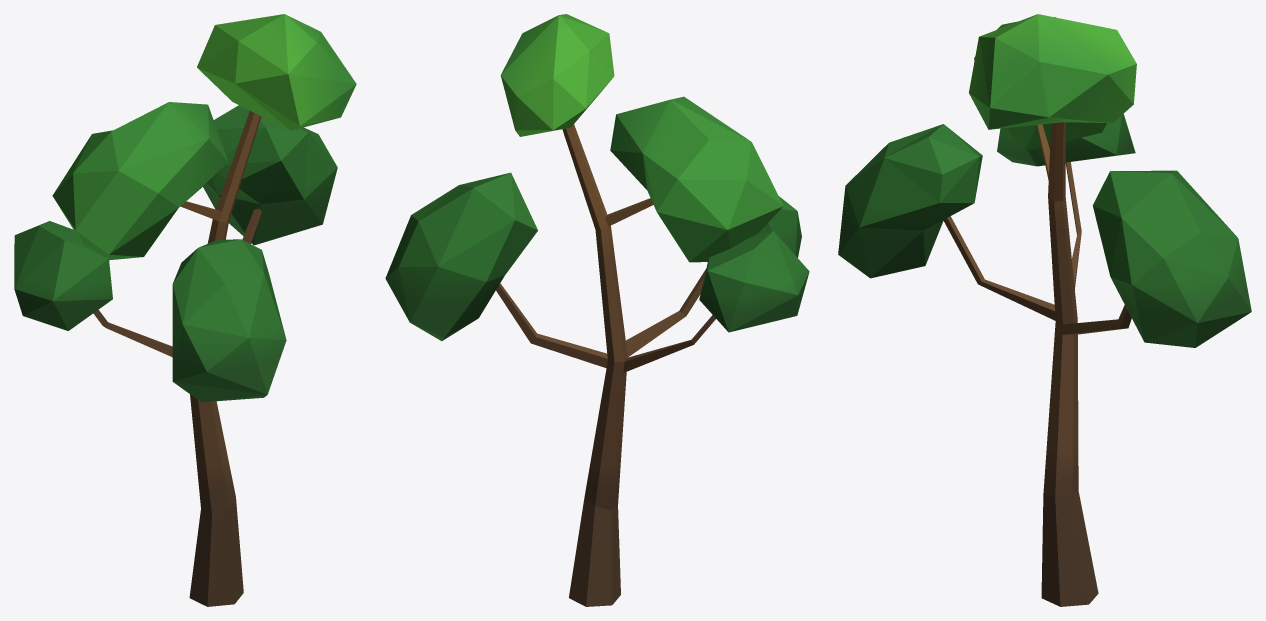
File: um_tree006.FBX
The picture shows the model from 3 angles, left to right: view 1: azimuth 30°, elevation 25°; view 2: azimuth 150°, elevation 25°; view 3: azimuth 270°, elevation 25°; orthographic projection. The views are drawn at different scales.
Parts seen in each view (by area): view 1: um_tree006; view 2: um_tree006; view 3: um_tree006.
Boxes of the visible parts, left/top/right/bottom form: um_tree006: left=14, top=14, right=356, bottom=606; um_tree006: left=385, top=14, right=809, bottom=606; um_tree006: left=838, top=14, right=1251, bottom=606.
Bounding box in the file's own units: 2.38 × 3.63 × 2.24.
